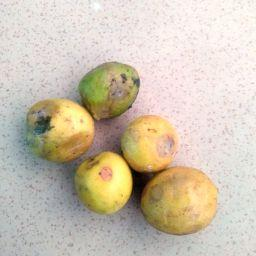lemon: (137, 164, 222, 238), (22, 96, 99, 166), (76, 58, 142, 124), (116, 112, 183, 177), (72, 149, 136, 217)
